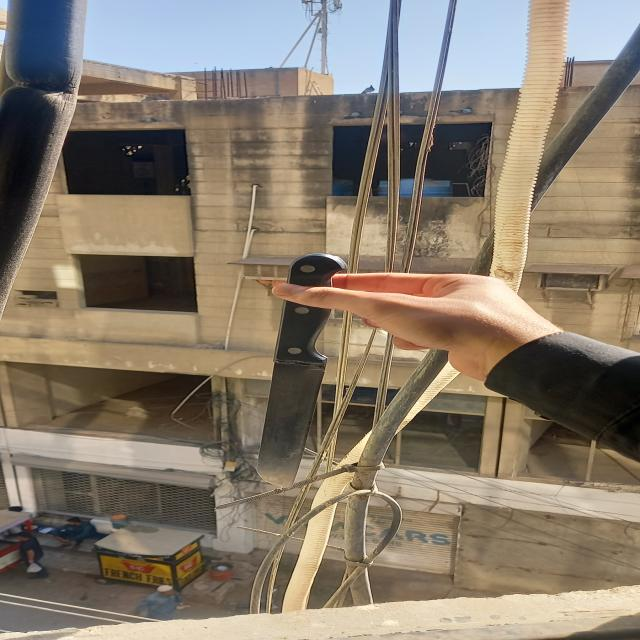senjata_tajam: (253, 253, 348, 488)
